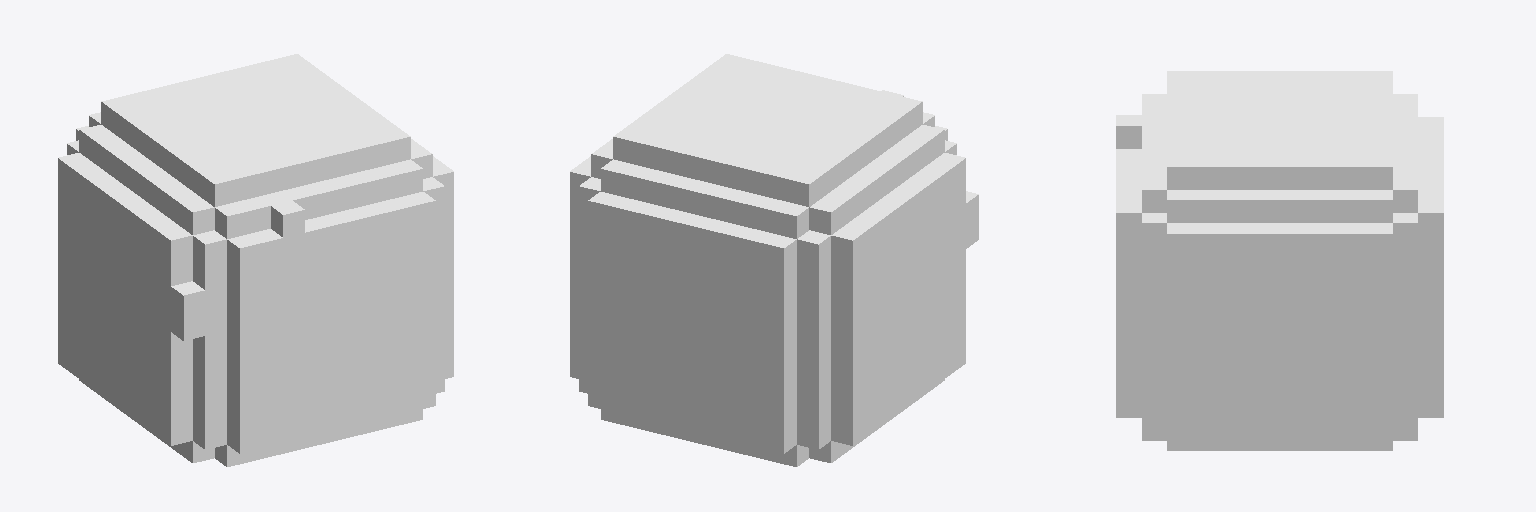
Rendered from Boulder.obj.
The picture shows the model from 3 angles: view 1: azimuth 30°, elevation 25°; view 2: azimuth 150°, elevation 25°; view 3: azimuth 270°, elevation 25°; orthographic projection.
Bounding box in the file's own units: 13 × 12 × 13.